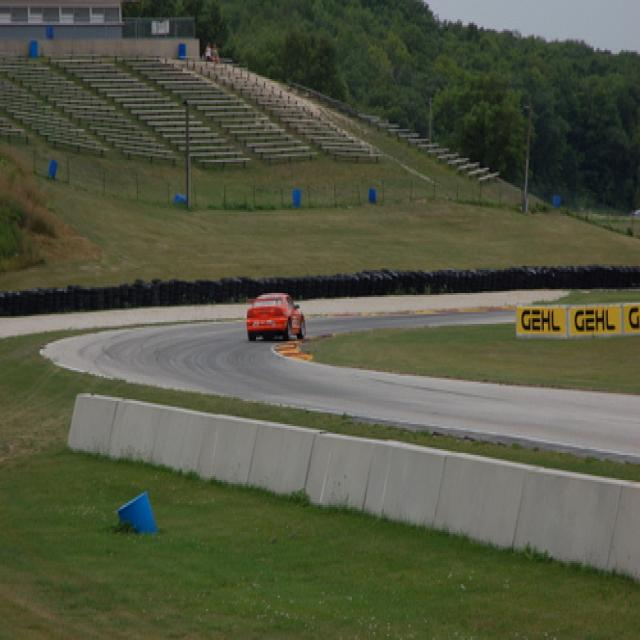car: (247, 292, 307, 342)
